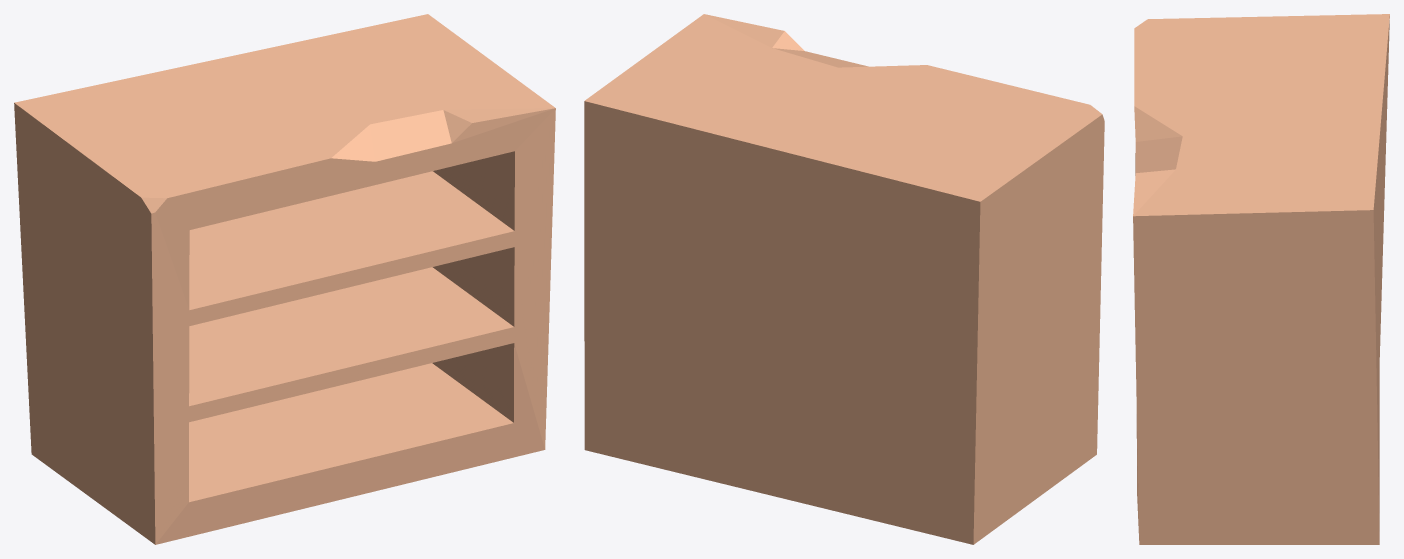
File: drawer.fbx
The picture shows the model from 3 angles, left to right: view 1: azimuth 30°, elevation 25°; view 2: azimuth 150°, elevation 25°; view 3: azimuth 270°, elevation 25°; orthographic projection. The views are drawn at different scales.
Parts seen in each view (by area): view 1: Cube.012; view 2: Cube.012; view 3: Cube.012.
Part boxes in pixels (bbox=[...]): Cube.012: bbox=[14, 14, 555, 544]; Cube.012: bbox=[584, 14, 1104, 544]; Cube.012: bbox=[1133, 14, 1389, 544].
Bounding box in the file's own units: 354 × 290 × 198.
